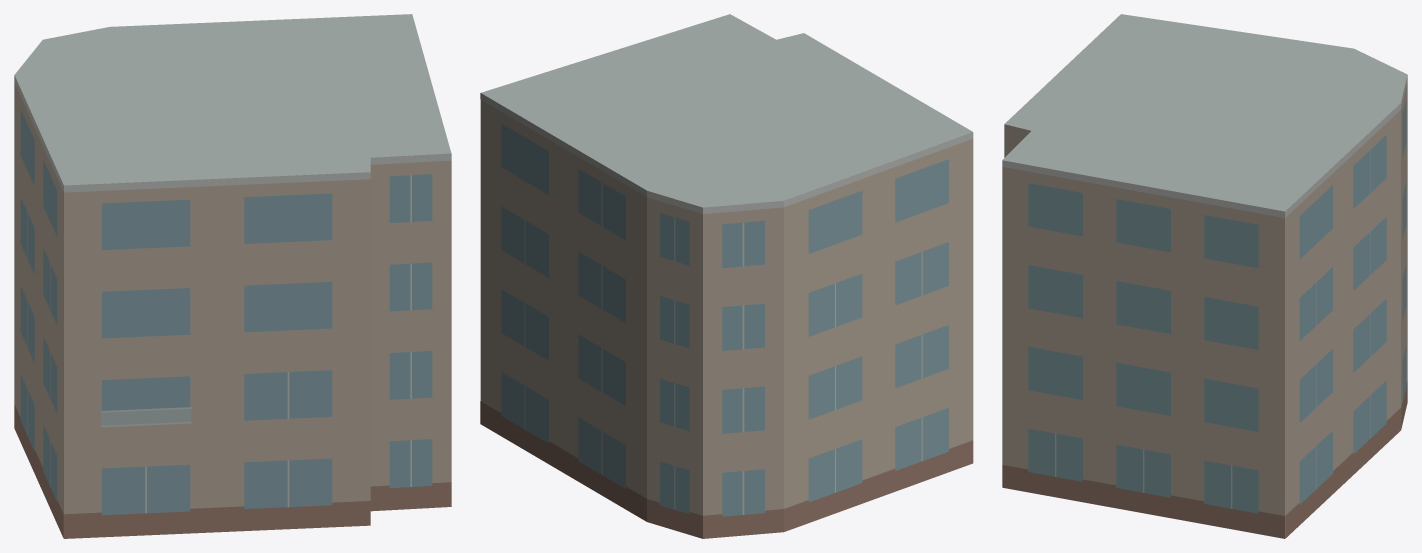
The model's file is survey-upis-32844533.glb.
3 views of the same model, side by side, from view 1: azimuth 30°, elevation 25°; view 2: azimuth 150°, elevation 25°; view 3: azimuth 270°, elevation 25° (orthographic). The views are drawn at different scales.
Parts seen in each view (by area): view 1: survey-upis-32844533.tmp; view 2: survey-upis-32844533.tmp; view 3: survey-upis-32844533.tmp.
Boxes of the visible parts, x1,y1,x2,y2 form: survey-upis-32844533.tmp: (14,14,451,538); survey-upis-32844533.tmp: (480,14,973,538); survey-upis-32844533.tmp: (1002,14,1407,538).
Bounding box in the file's own units: 15.8 × 12.2 × 13.7.
